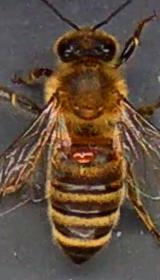varroa_mite: (70, 146, 98, 164)
